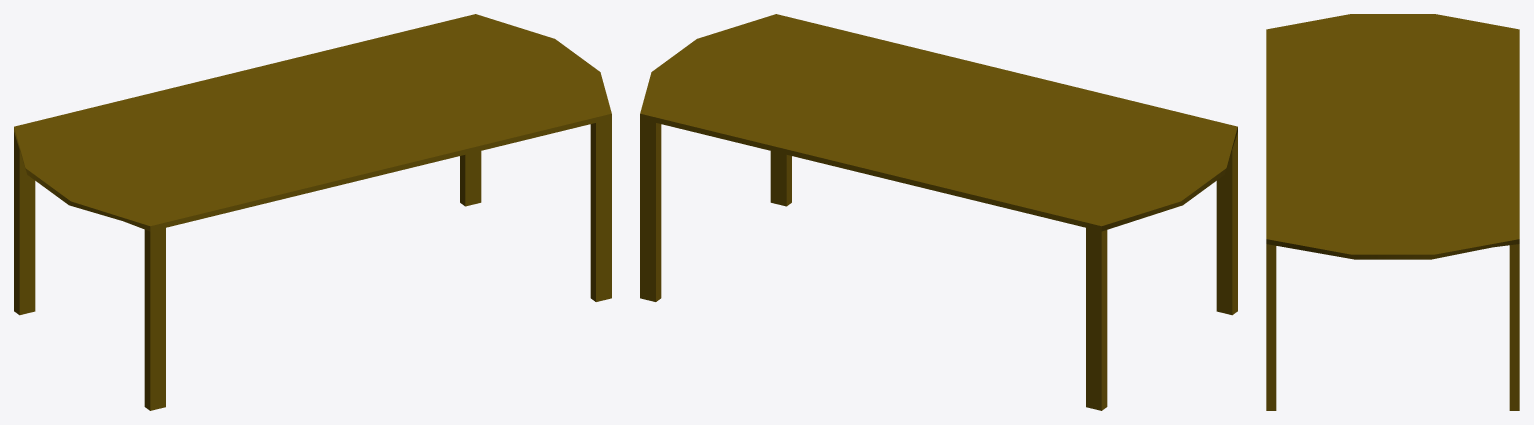
Rendered from Table.fbx.
The picture shows the model from 3 angles, left to right: view 1: azimuth 30°, elevation 25°; view 2: azimuth 150°, elevation 25°; view 3: azimuth 270°, elevation 25°; orthographic projection. The views are drawn at different scales.
Visible parts, largest first — view 1: pCube1; view 2: pCube1; view 3: pCube1.
Part boxes in pixels (x1,y1,x2,y2): pCube1: [14, 14, 611, 410]; pCube1: [640, 14, 1237, 410]; pCube1: [1266, 14, 1519, 410].
Bounding box in the file's own units: 77.26 × 25.75 × 34.4.
